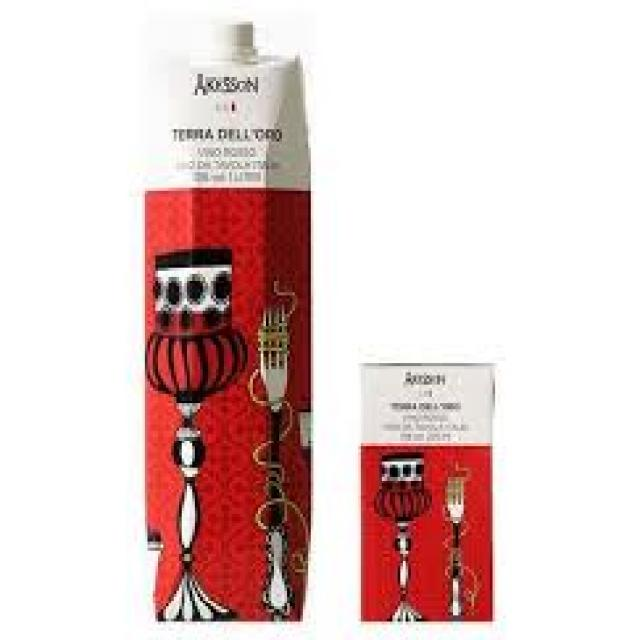non_white_jug: (125, 11, 320, 632), (353, 350, 500, 636)
